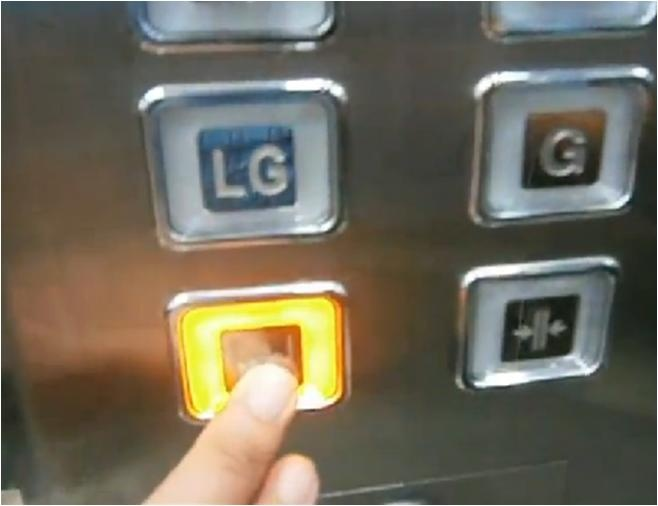G: (468, 65, 656, 227)
LG: (137, 77, 349, 252)
close: (454, 254, 620, 393)
unknown: (162, 282, 355, 427)
